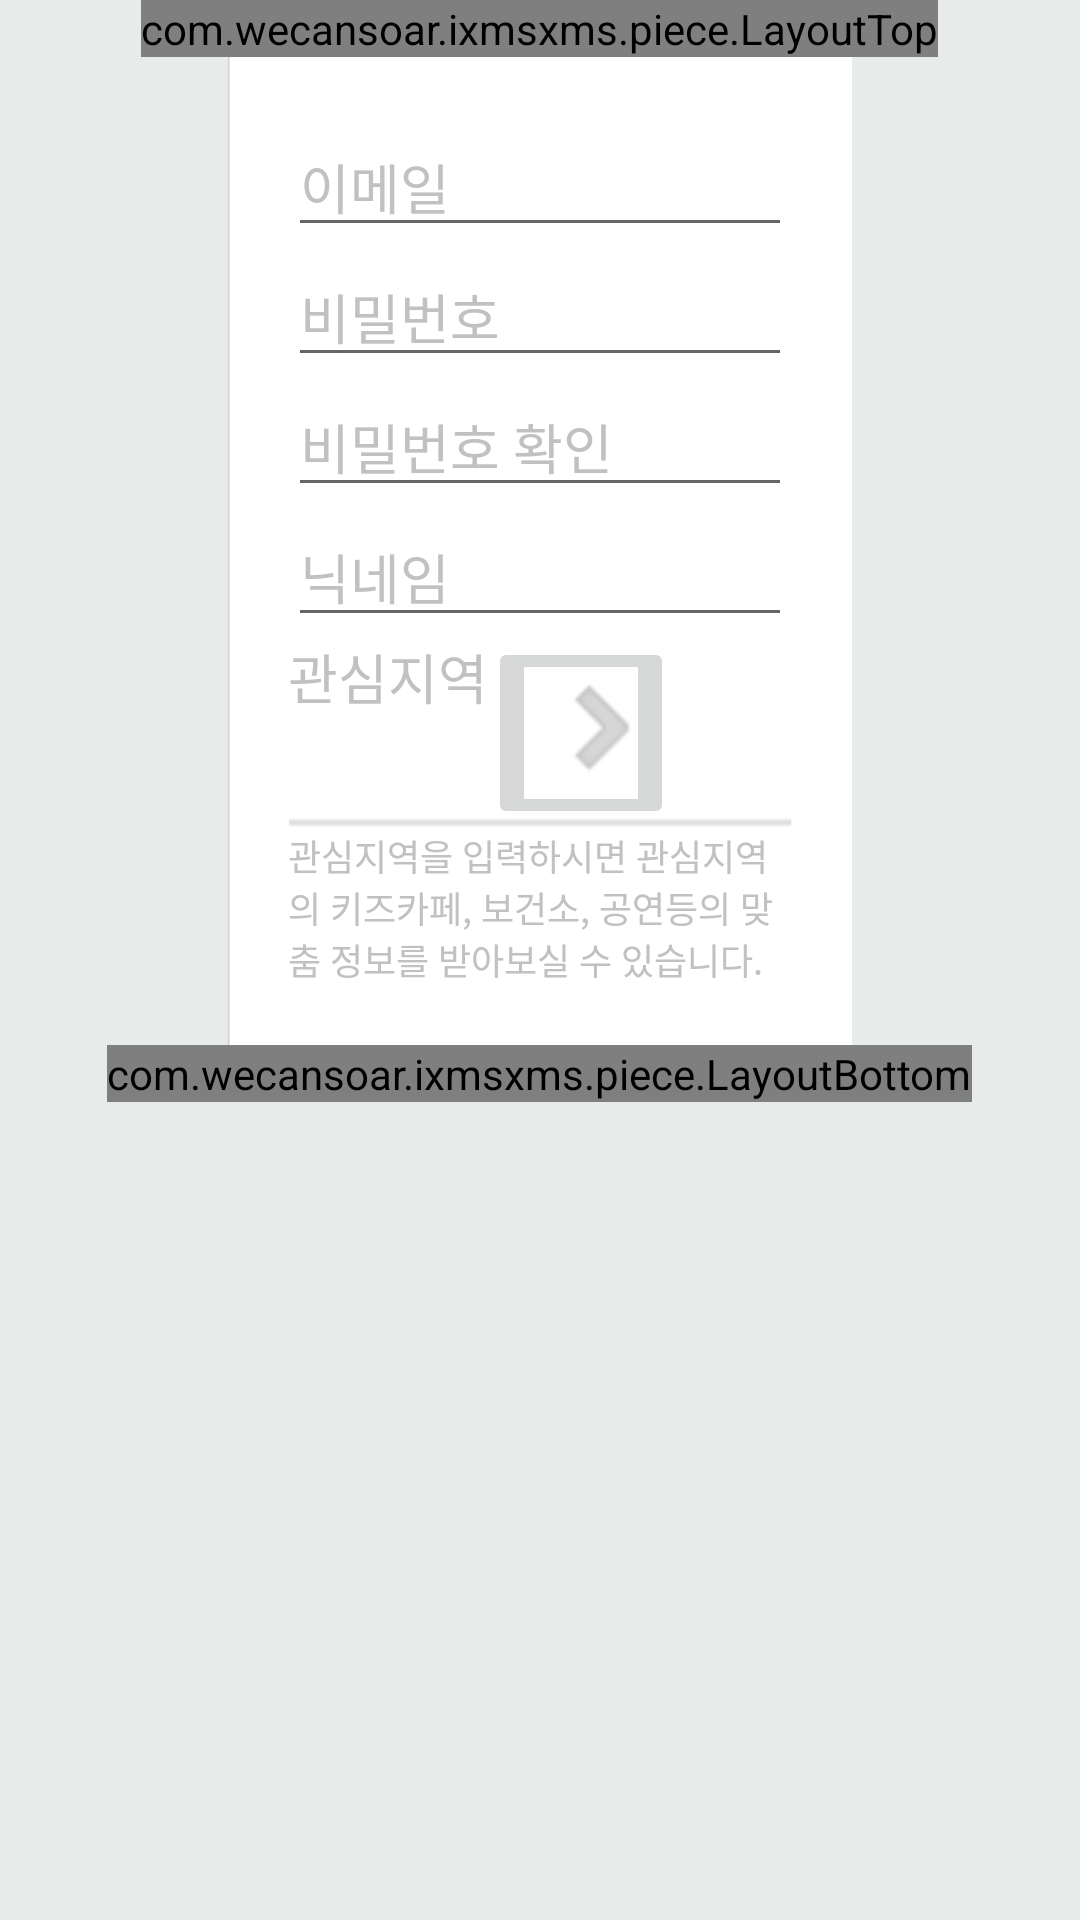

Icon click points for this 1080px×1920px phone screenshot, format [x,y]:
next: [581,733]
